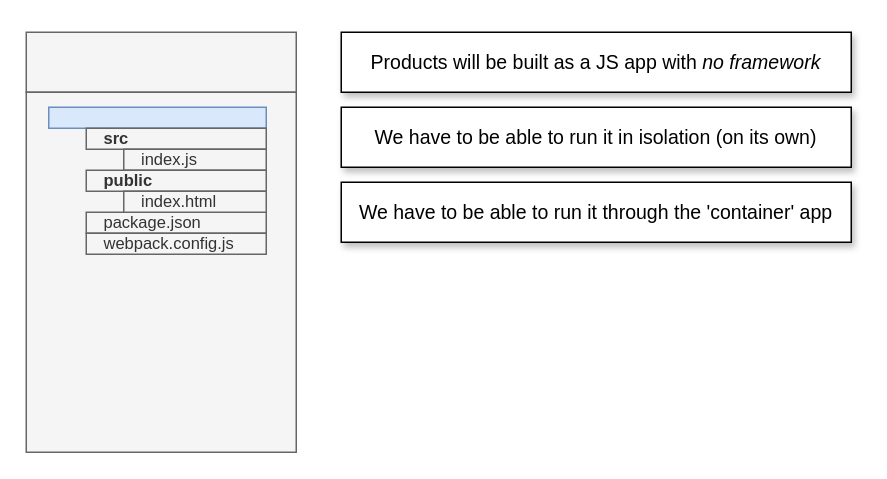
Some shapes in this 887 by 479 pixel diagram are drawn without their labels. The shapes that lost their labels are listed below. From the top down, each one's centre as x and y in pixels, then its label:
At (x=160, y=61): "Project Structure".
At (x=156, y=117): "products".
